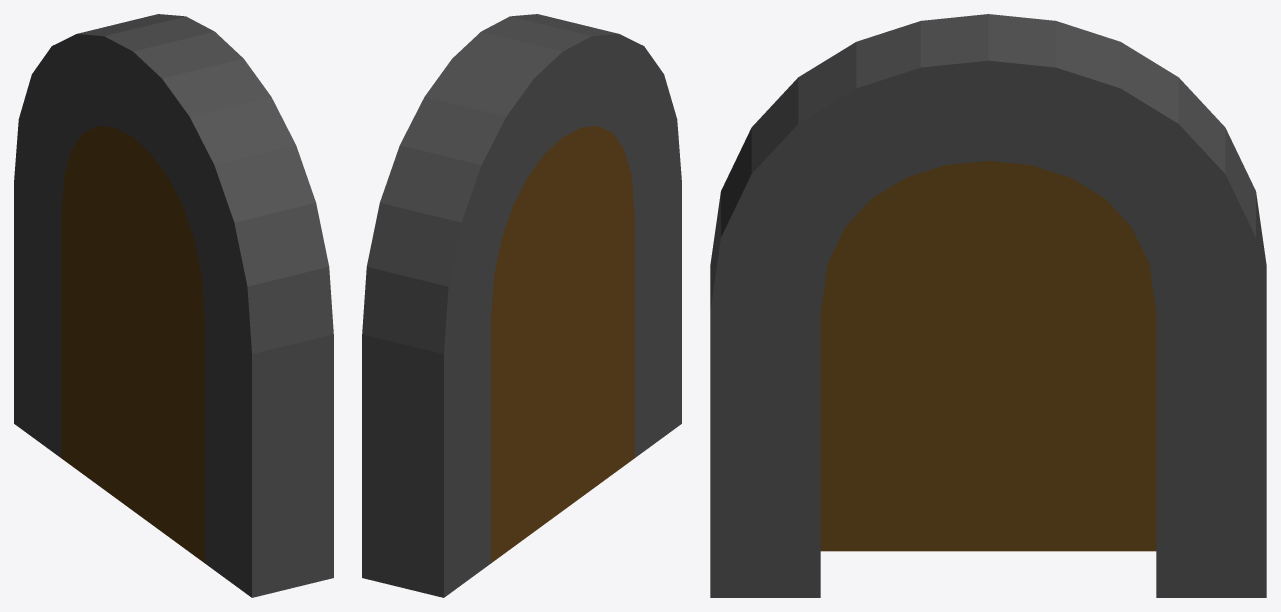
The model's file is Door.fbx.
3 renders of one model, left to right at view 1: azimuth 30°, elevation 25°; view 2: azimuth 150°, elevation 25°; view 3: azimuth 270°, elevation 25°, orthographic. The views are drawn at different scales.
Visible parts, largest first — view 1: Cube; view 2: Cube; view 3: Cube.
Boxes of the visible parts, x1,y1,x2,y2 form: Cube: [14, 14, 333, 597]; Cube: [362, 14, 681, 597]; Cube: [710, 14, 1266, 597].
Bounding box in the file's own units: 200 × 1073 × 1008.
